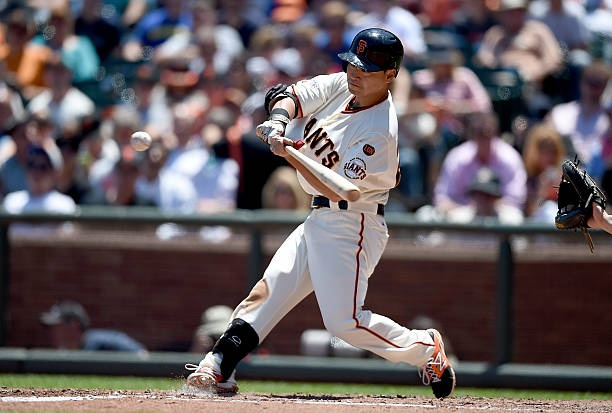bita: (271, 143, 359, 201)
